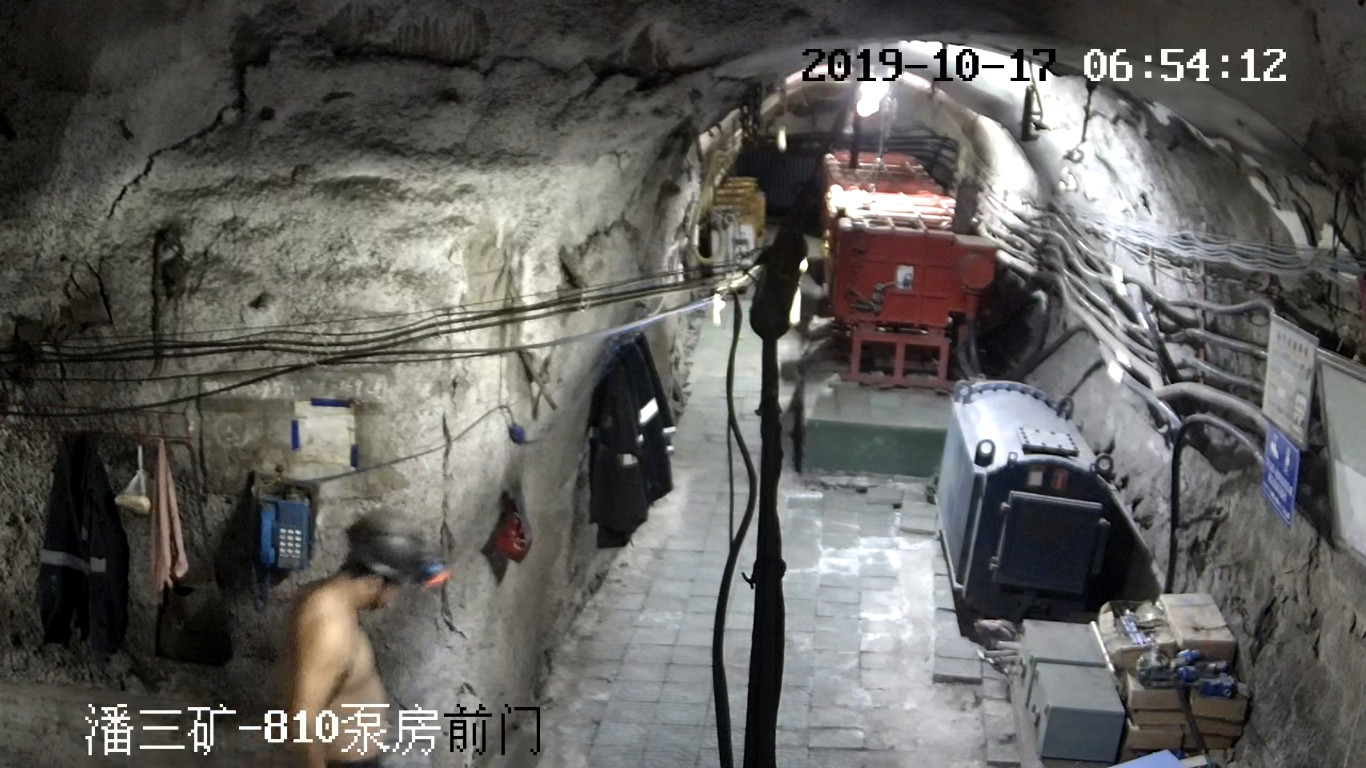helmet: (346, 507, 453, 591)
